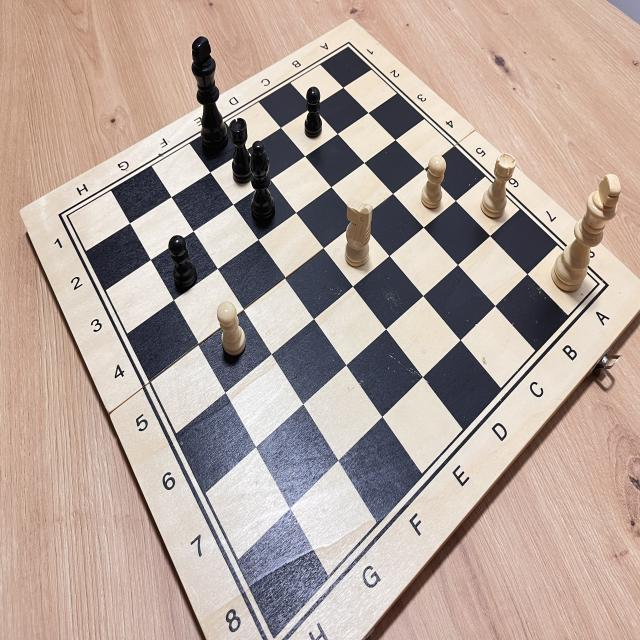black-bishop: (242, 133, 282, 234)
black-king: (180, 25, 234, 155)
black-pawn: (165, 231, 202, 295), (301, 79, 327, 145)
black-rook: (225, 110, 257, 188)
white-king: (545, 165, 628, 306)
white-knight: (337, 194, 377, 278)
white-pawn: (211, 297, 253, 364), (418, 152, 448, 219)
white-rook: (476, 144, 520, 227)
